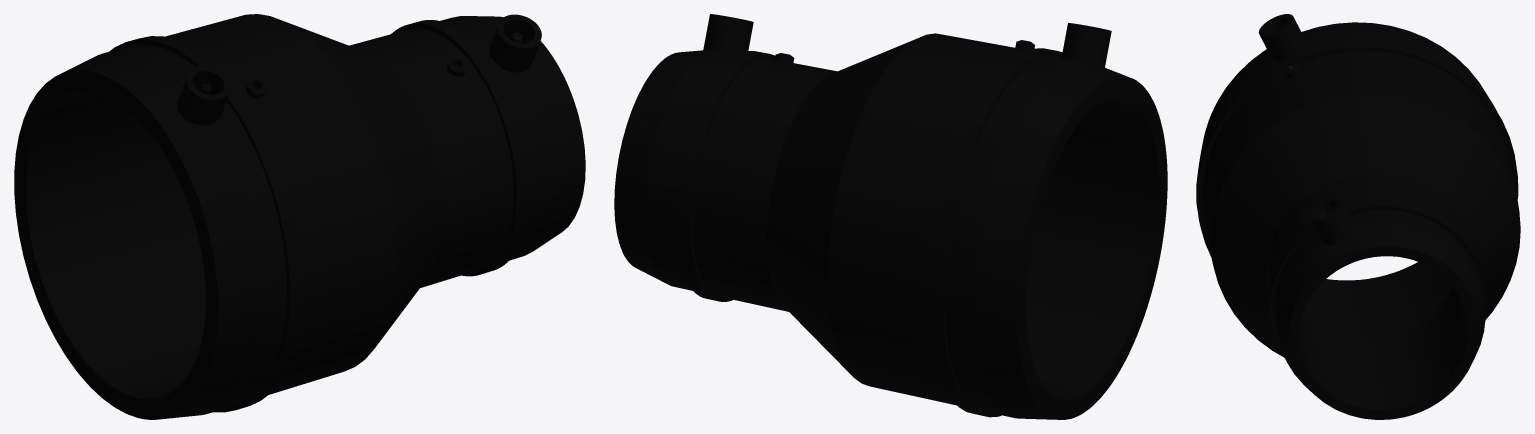
File: переход ЭСФ .glb
3 views of the same model, side by side, from view 1: azimuth 30°, elevation 25°; view 2: azimuth 150°, elevation 25°; view 3: azimuth 270°, elevation 25° (orthographic). The views are drawn at different scales.
Visible parts, largest first — view 1: node_id3; view 2: node_id3; view 3: node_id3.
Boxes of the visible parts, x1,y1,x2,y2 form: node_id3: [14, 14, 585, 419]; node_id3: [614, 14, 1167, 419]; node_id3: [1196, 14, 1520, 419].
Size of the model in its own units: 0.5299 by 0.417 by 0.3994.
Materials: 1 (1 with a texture image).
